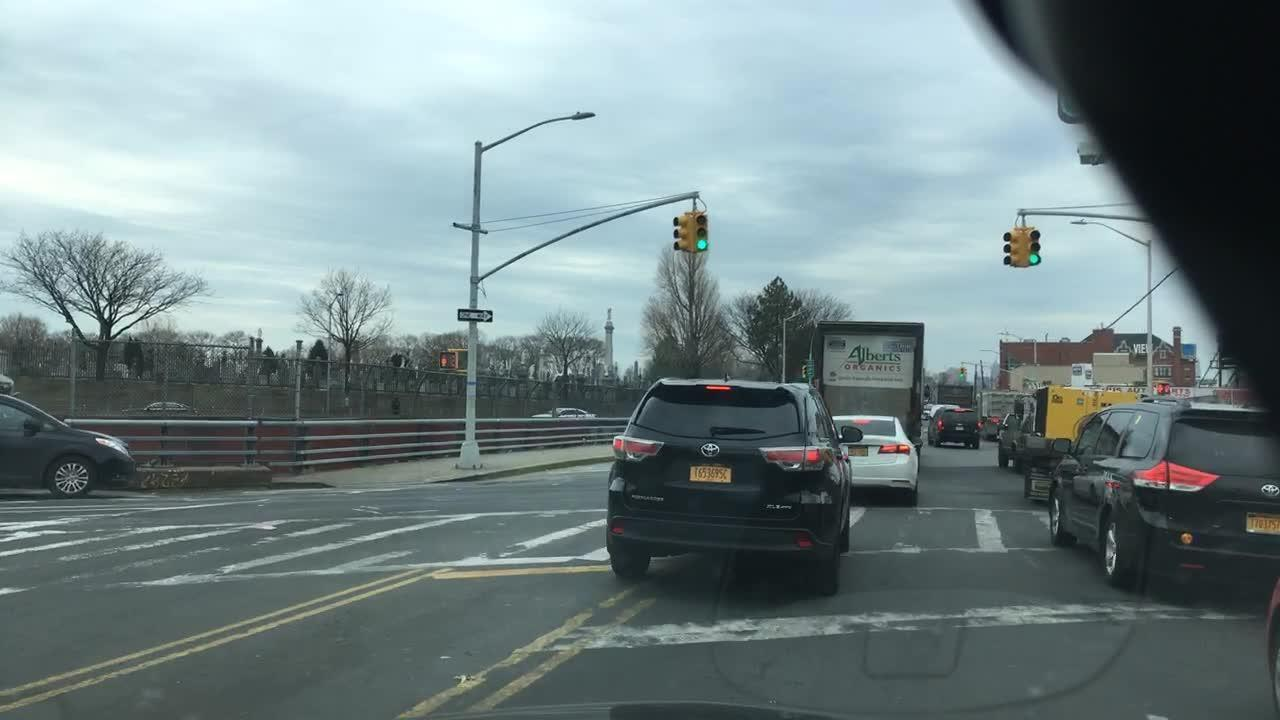Toyota: (694, 436, 732, 460), (1258, 482, 1280, 500)
